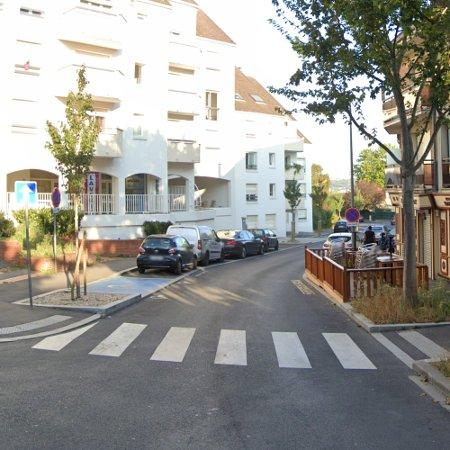crosswalks: (35, 321, 379, 371)
